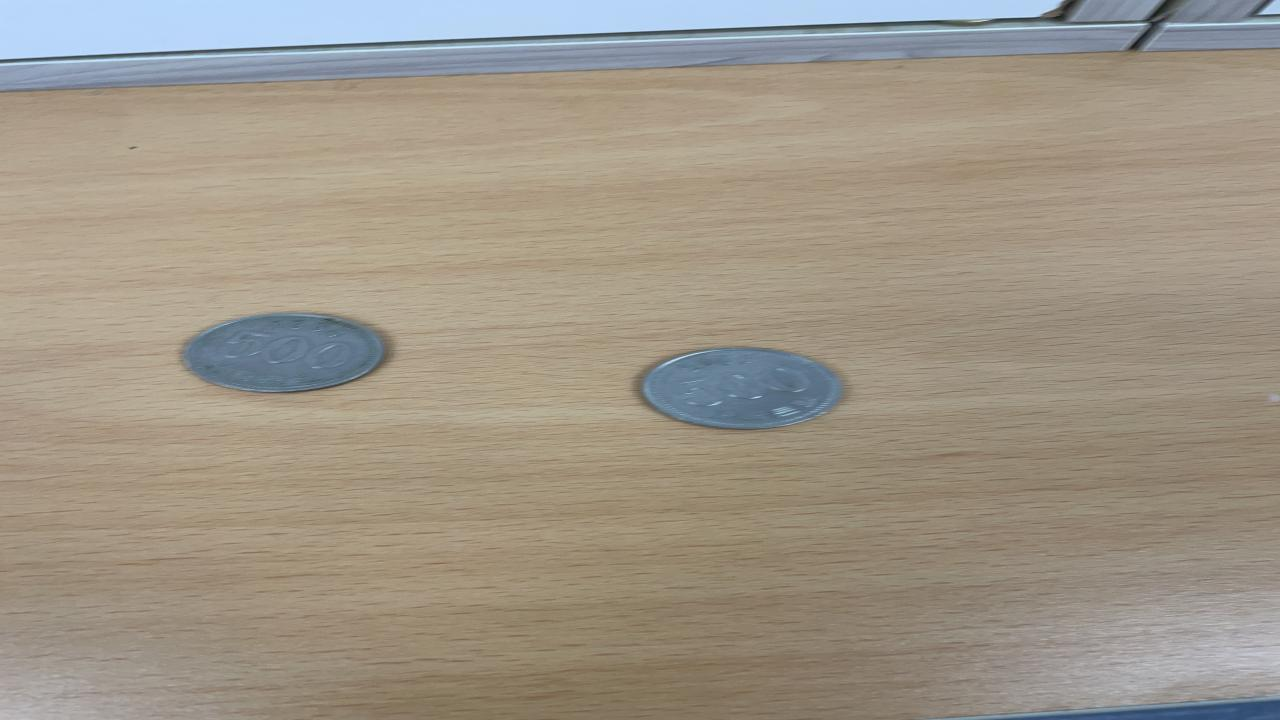coin: (635, 343, 852, 431), (178, 313, 388, 393)
